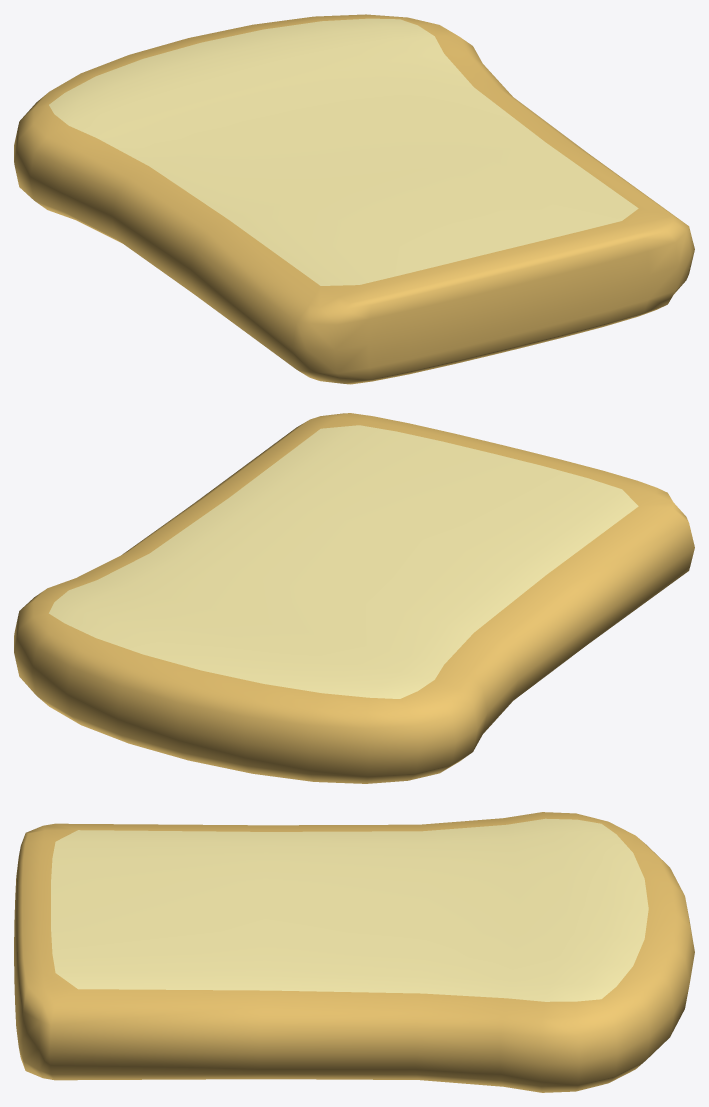
File: Bread.fbx
3 renders of one model, top to bottom at view 1: azimuth 30°, elevation 25°; view 2: azimuth 150°, elevation 25°; view 3: azimuth 270°, elevation 25°, orthographic. The views are drawn at different scales.
Visible parts, largest first — view 1: Cube.169; view 2: Cube.169; view 3: Cube.169.
Boxes of the visible parts, <box> form: Cube.169: <box>14,14,694,384</box>; Cube.169: <box>14,413,694,783</box>; Cube.169: <box>14,812,694,1092</box>.
Bounding box in the file's own units: 33.32 × 6.57 × 42.83.
